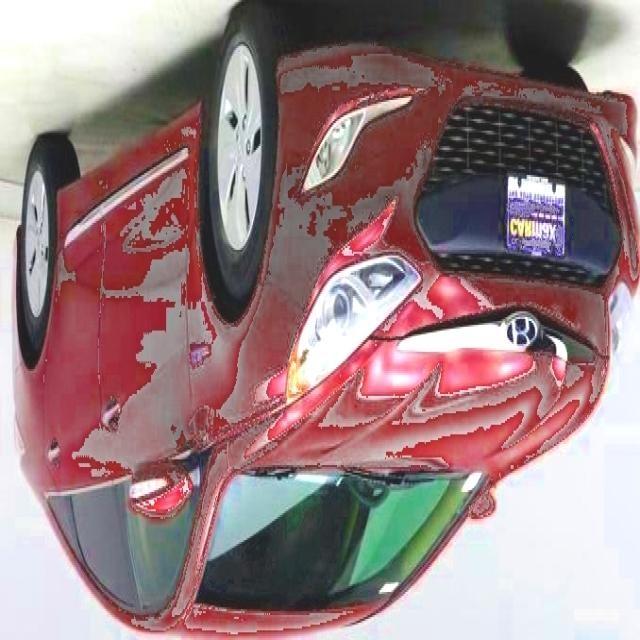maroon: (7, 65, 640, 638)
